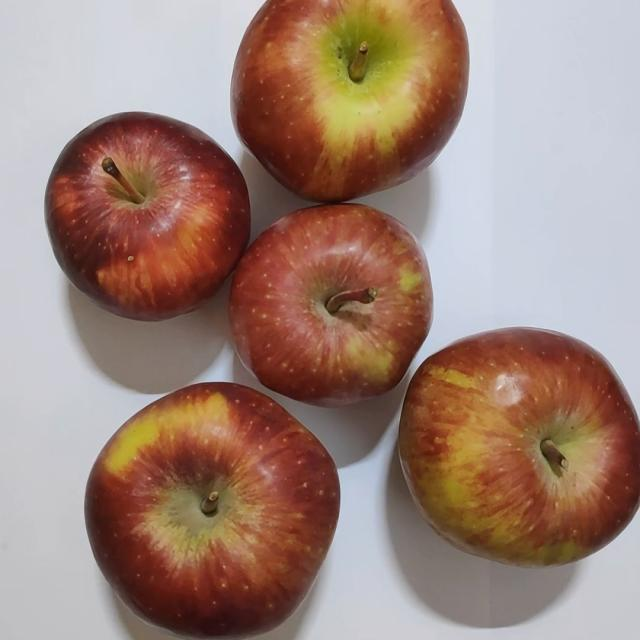apple: (82, 387, 350, 640), (391, 333, 640, 590), (226, 0, 483, 222), (41, 113, 261, 342), (222, 206, 448, 428)
